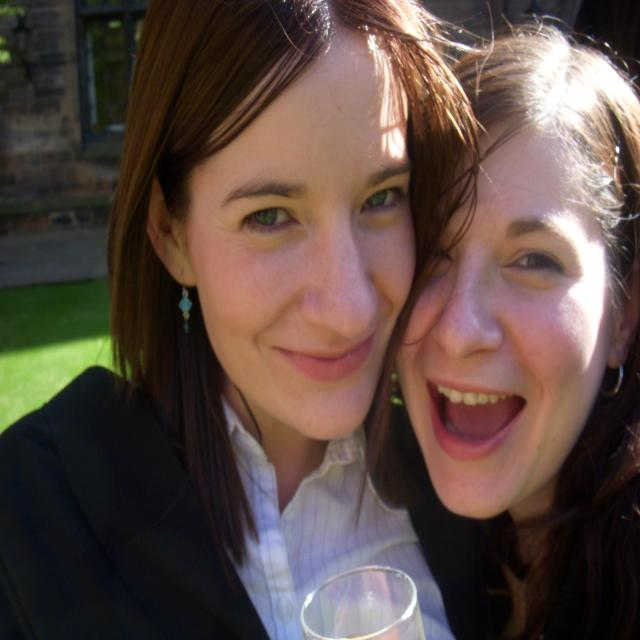no-glass: (242, 189, 405, 252)
